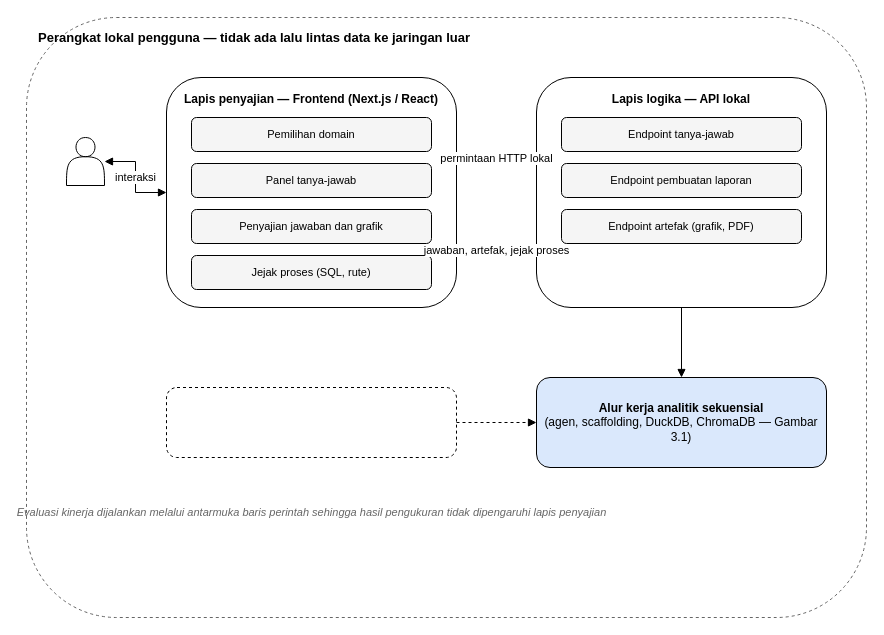
Some shapes in this 884 by 635 pixel diagram are drawn without their labels. Each missing label, with the centre of its shape:
Antarmuka baris perintah (digunakan untuk eksperimen): the point at 311,422
Pengguna: the point at 85,161
